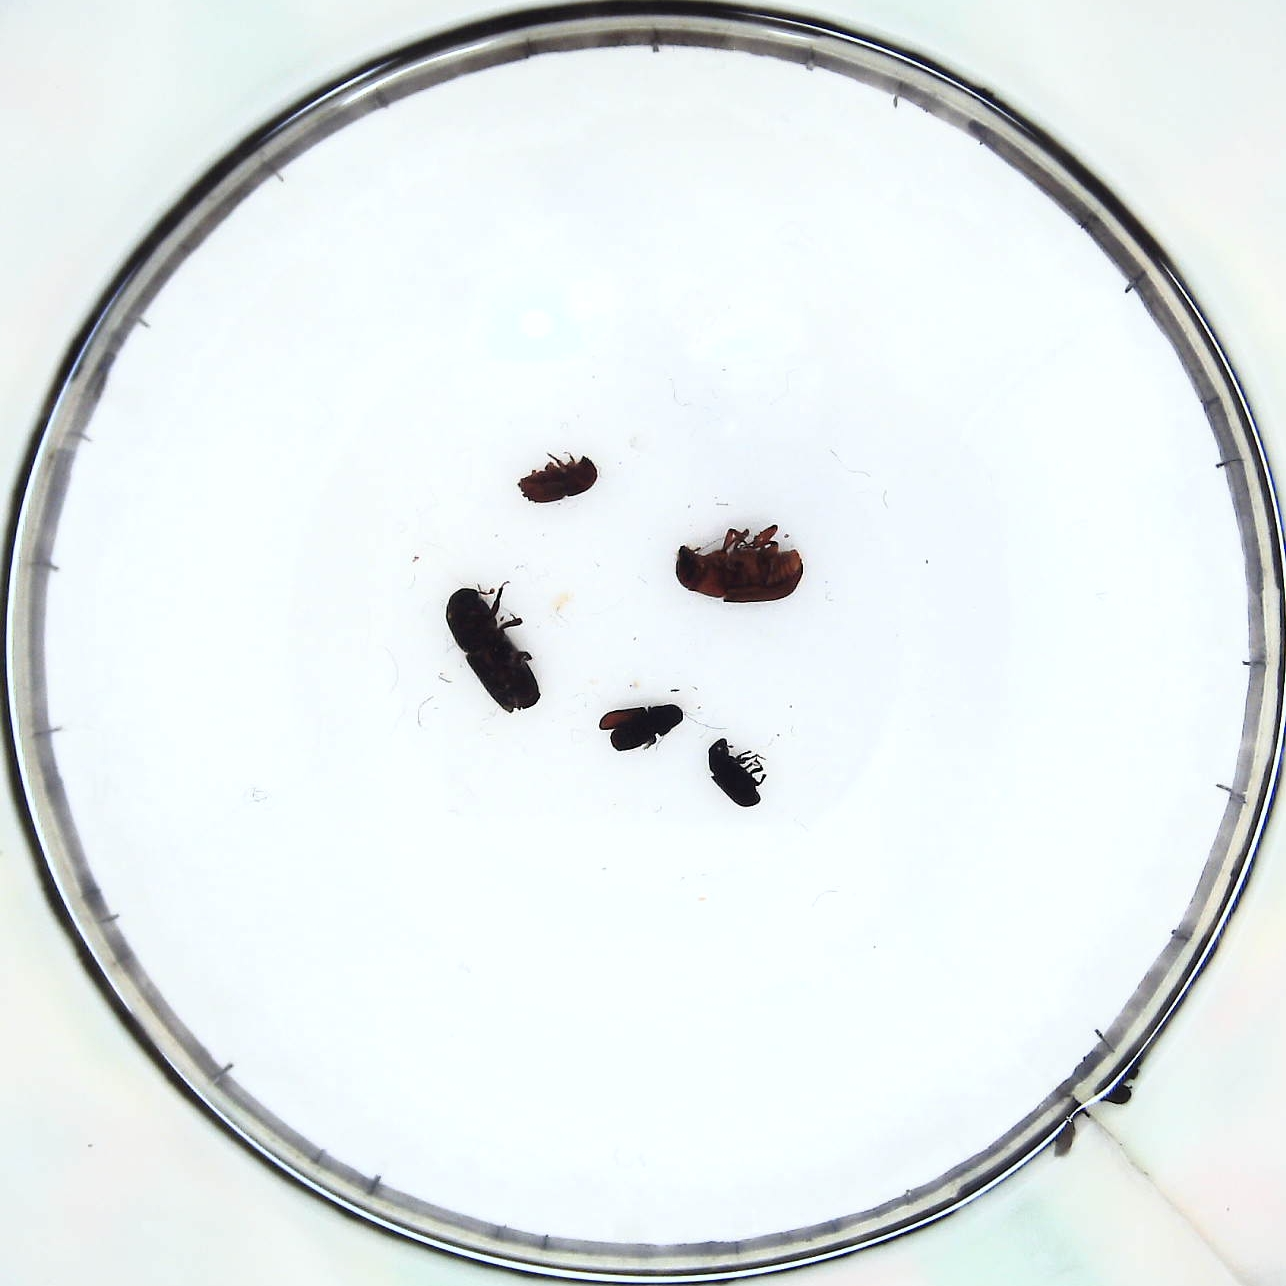Boerner: (444, 586, 543, 711)
Leconte: (677, 538, 809, 608)
Linnaeus: (519, 452, 599, 502)
armandi: (603, 701, 685, 753)
coleoptera: (705, 737, 764, 808)
